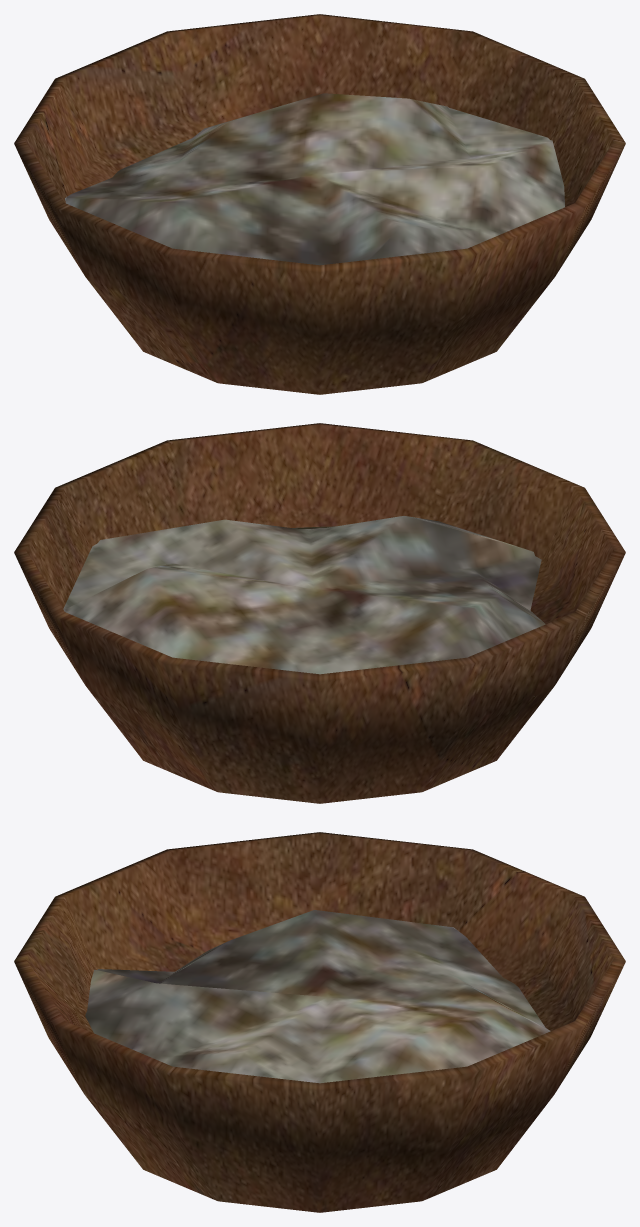
The model's file is KM_ITFO_OATMEAL.glb.
The picture shows the model from 3 angles, top to bottom: view 1: azimuth 30°, elevation 25°; view 2: azimuth 150°, elevation 25°; view 3: azimuth 270°, elevation 25°; orthographic projection.
Parts seen in each view (by area): view 1: Mesh; view 2: Mesh; view 3: Mesh.
Boxes of the visible parts, x1,y1,x2,y2 form: Mesh: (14, 14, 625, 394); Mesh: (14, 423, 625, 803); Mesh: (14, 832, 625, 1212).
Size of the model in its own units: 0.2634 by 0.0797 by 0.2634.
Materials: 2 (2 with a texture image).
